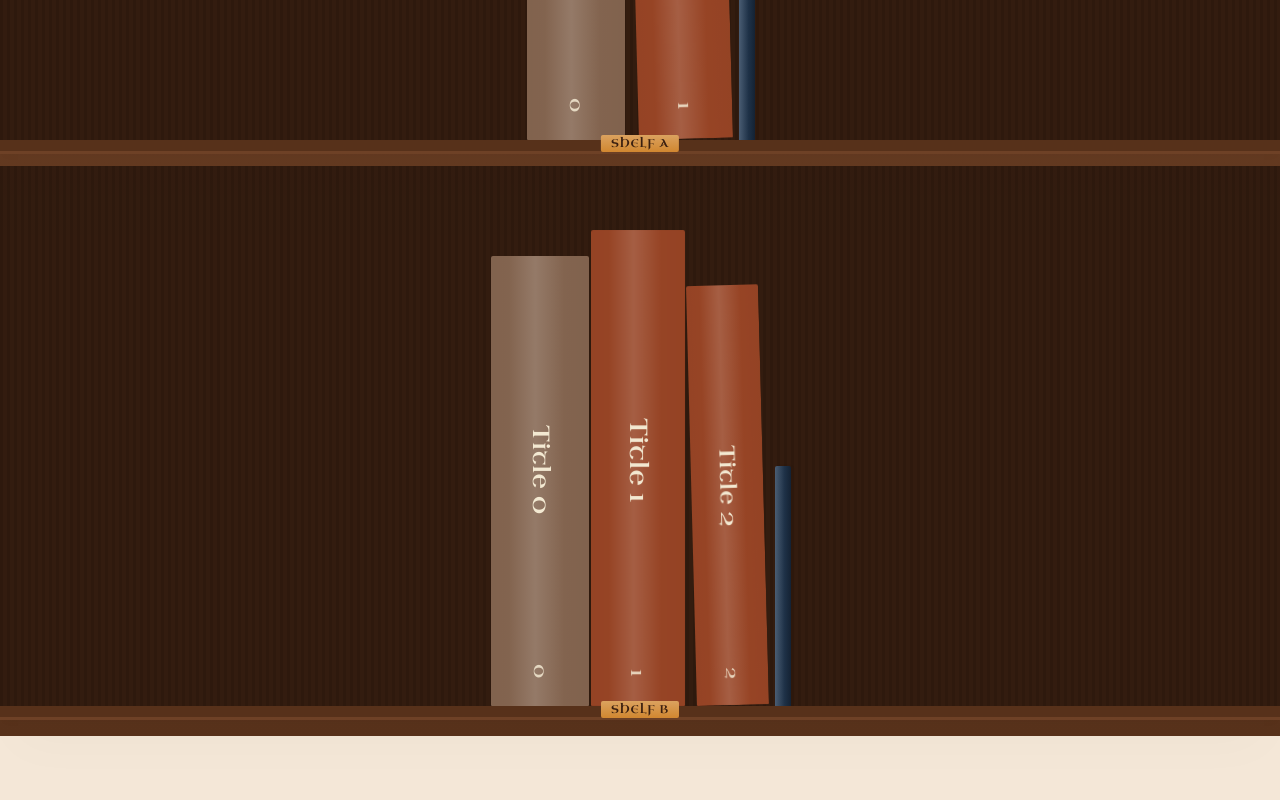
Test: data from a catalogue › handles the same book on two shelves
(page scrolled)
Click the button named "Title 0 by Author 0, $10.00" next to "Shelf b" at {"x": 540, "y": 481}, box [490,256,588,706]
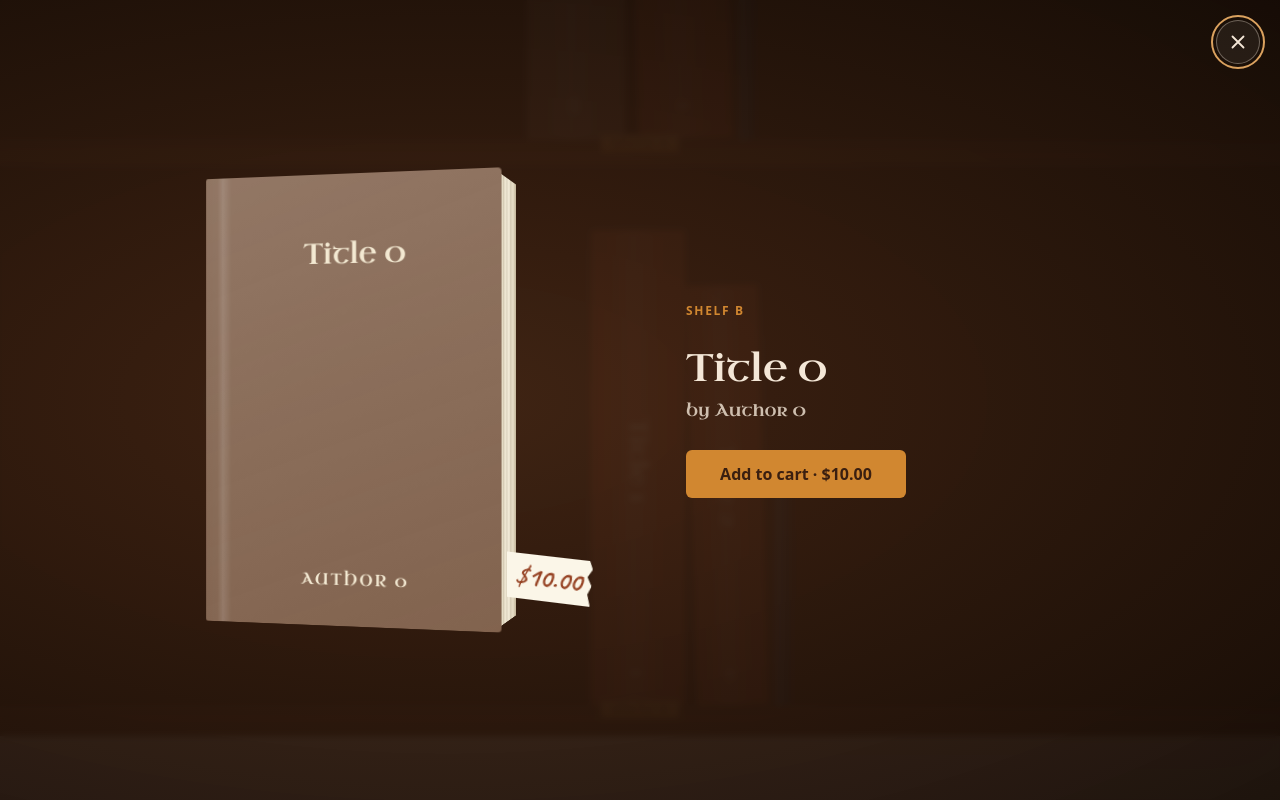
Result: the dialog is shown
Result: the text "Shelf b" is shown at [686,302,745,319]
